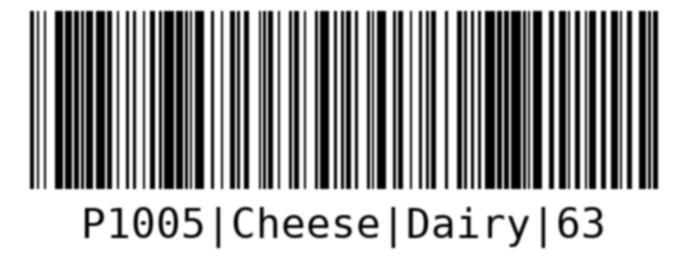milk: (21, 3, 669, 257)
